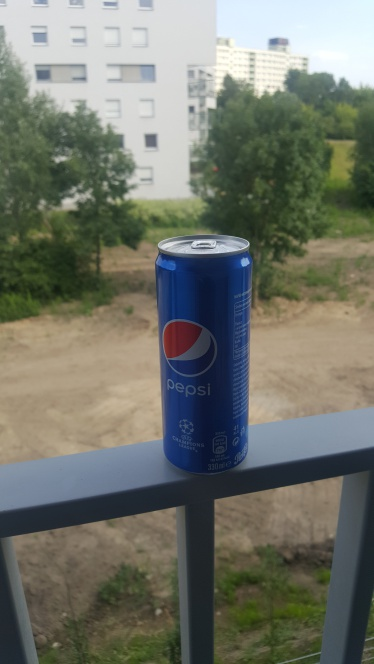pepsi: (145, 227, 259, 478)
